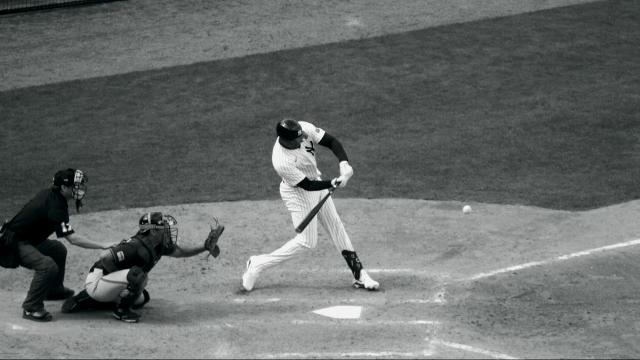ball: (464, 205, 474, 213)
bat: (296, 183, 338, 235)
